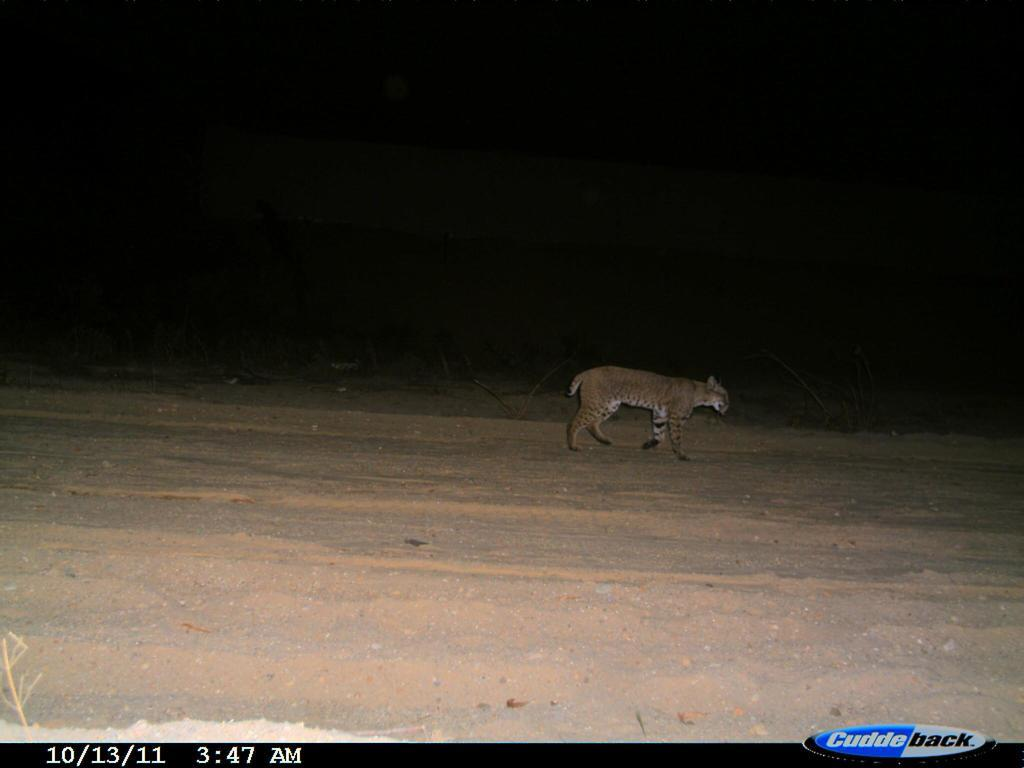bobcat: (552, 354, 738, 473)
